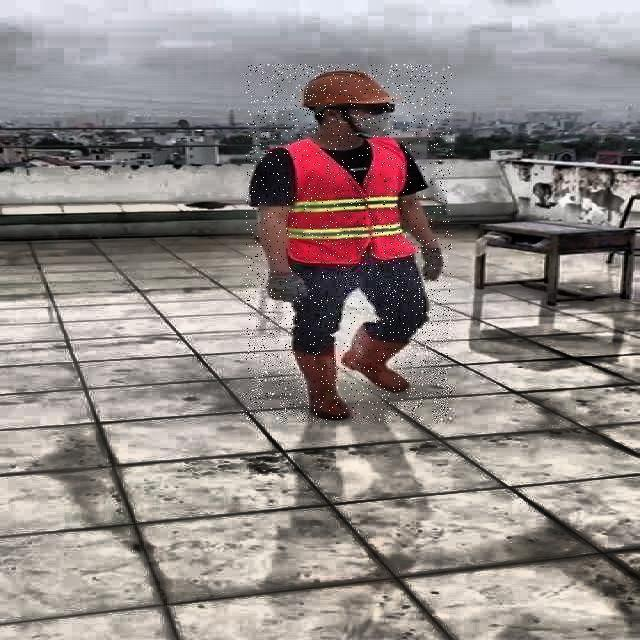safety_helmet: (294, 65, 400, 109)
safety_jacket: (276, 140, 420, 264)
